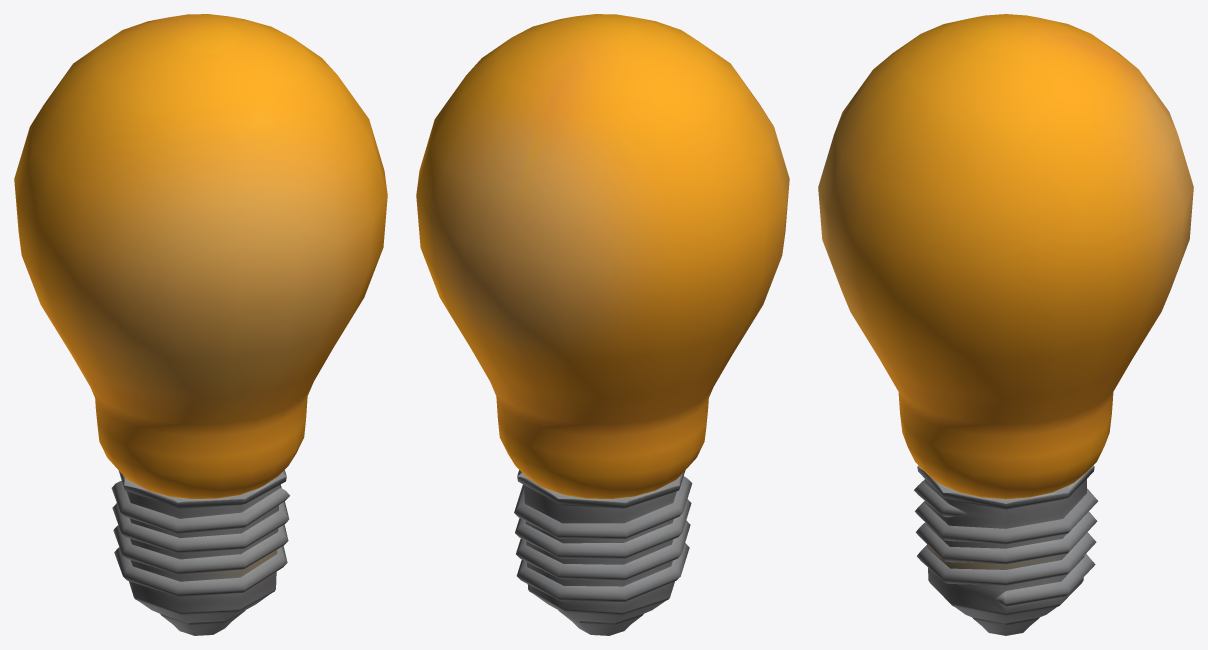
Rendered from Bulb.FBX.
3 views of the same model, side by side, from view 1: azimuth 30°, elevation 25°; view 2: azimuth 150°, elevation 25°; view 3: azimuth 270°, elevation 25° (orthographic).
Parts seen in each view (by area): view 1: Acc_Bulb; view 2: Acc_Bulb; view 3: Acc_Bulb.
Part boxes in pixels (bbox=[...]): Acc_Bulb: bbox=[14, 14, 387, 635]; Acc_Bulb: bbox=[416, 14, 789, 635]; Acc_Bulb: bbox=[818, 14, 1193, 635].
Size of the model in its own units: 66.18 by 116 by 66.18.
